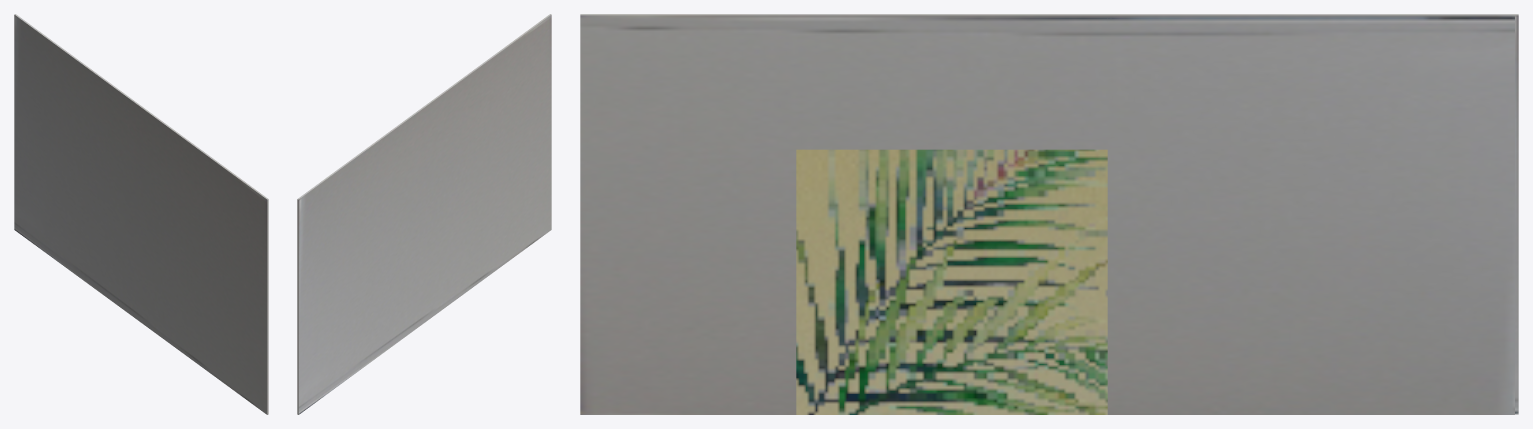
The model's file is roof.FBX.
The picture shows the model from 3 angles, left to right: view 1: azimuth 30°, elevation 25°; view 2: azimuth 150°, elevation 25°; view 3: azimuth 270°, elevation 25°; orthographic projection. The views are drawn at different scales.
Visible parts, largest first — view 1: Box001; view 2: Box001; view 3: Box001, Object001.
Part boxes in pixels (x1,y1,x2,y2): Box001: [14, 14, 268, 414]; Box001: [297, 14, 551, 414]; Box001: [580, 14, 1518, 414]; Object001: [796, 149, 1107, 414].
Bounding box in the file's own units: 1.59 × 201 × 428.
Materials: 2 (2 with a texture image).
